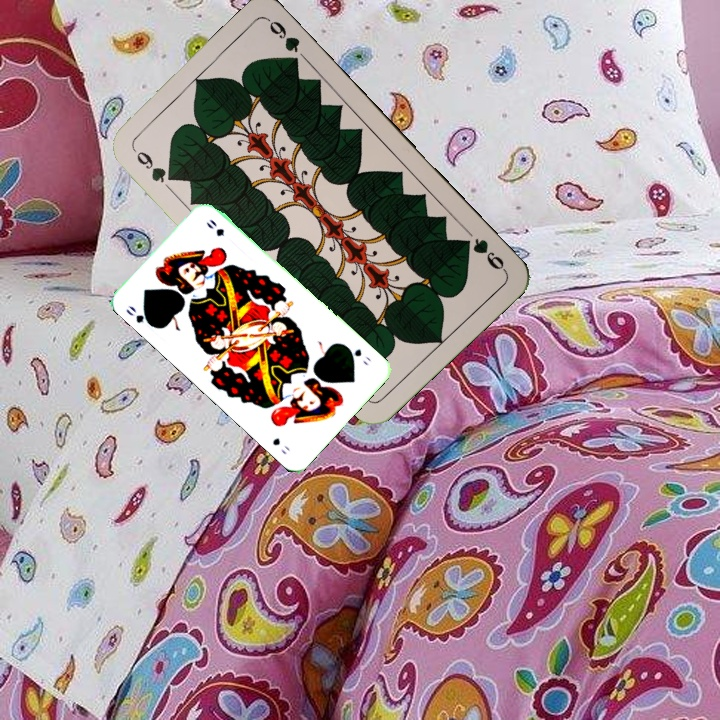G9: (456, 234, 509, 274), (129, 144, 179, 186)
GO: (122, 301, 157, 330), (342, 342, 373, 368)
